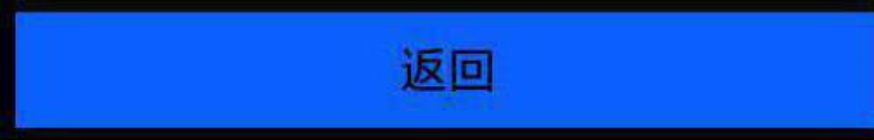Button: (1, 1, 873, 139)
